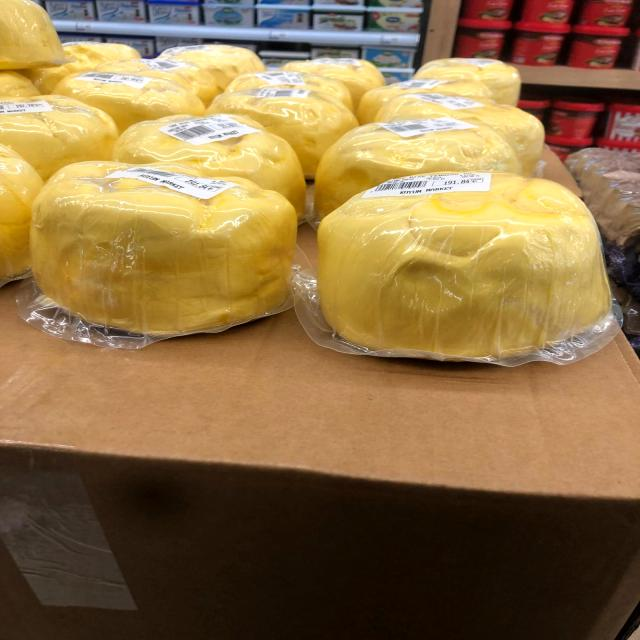cheese: (299, 163, 624, 372), (24, 156, 311, 340)
